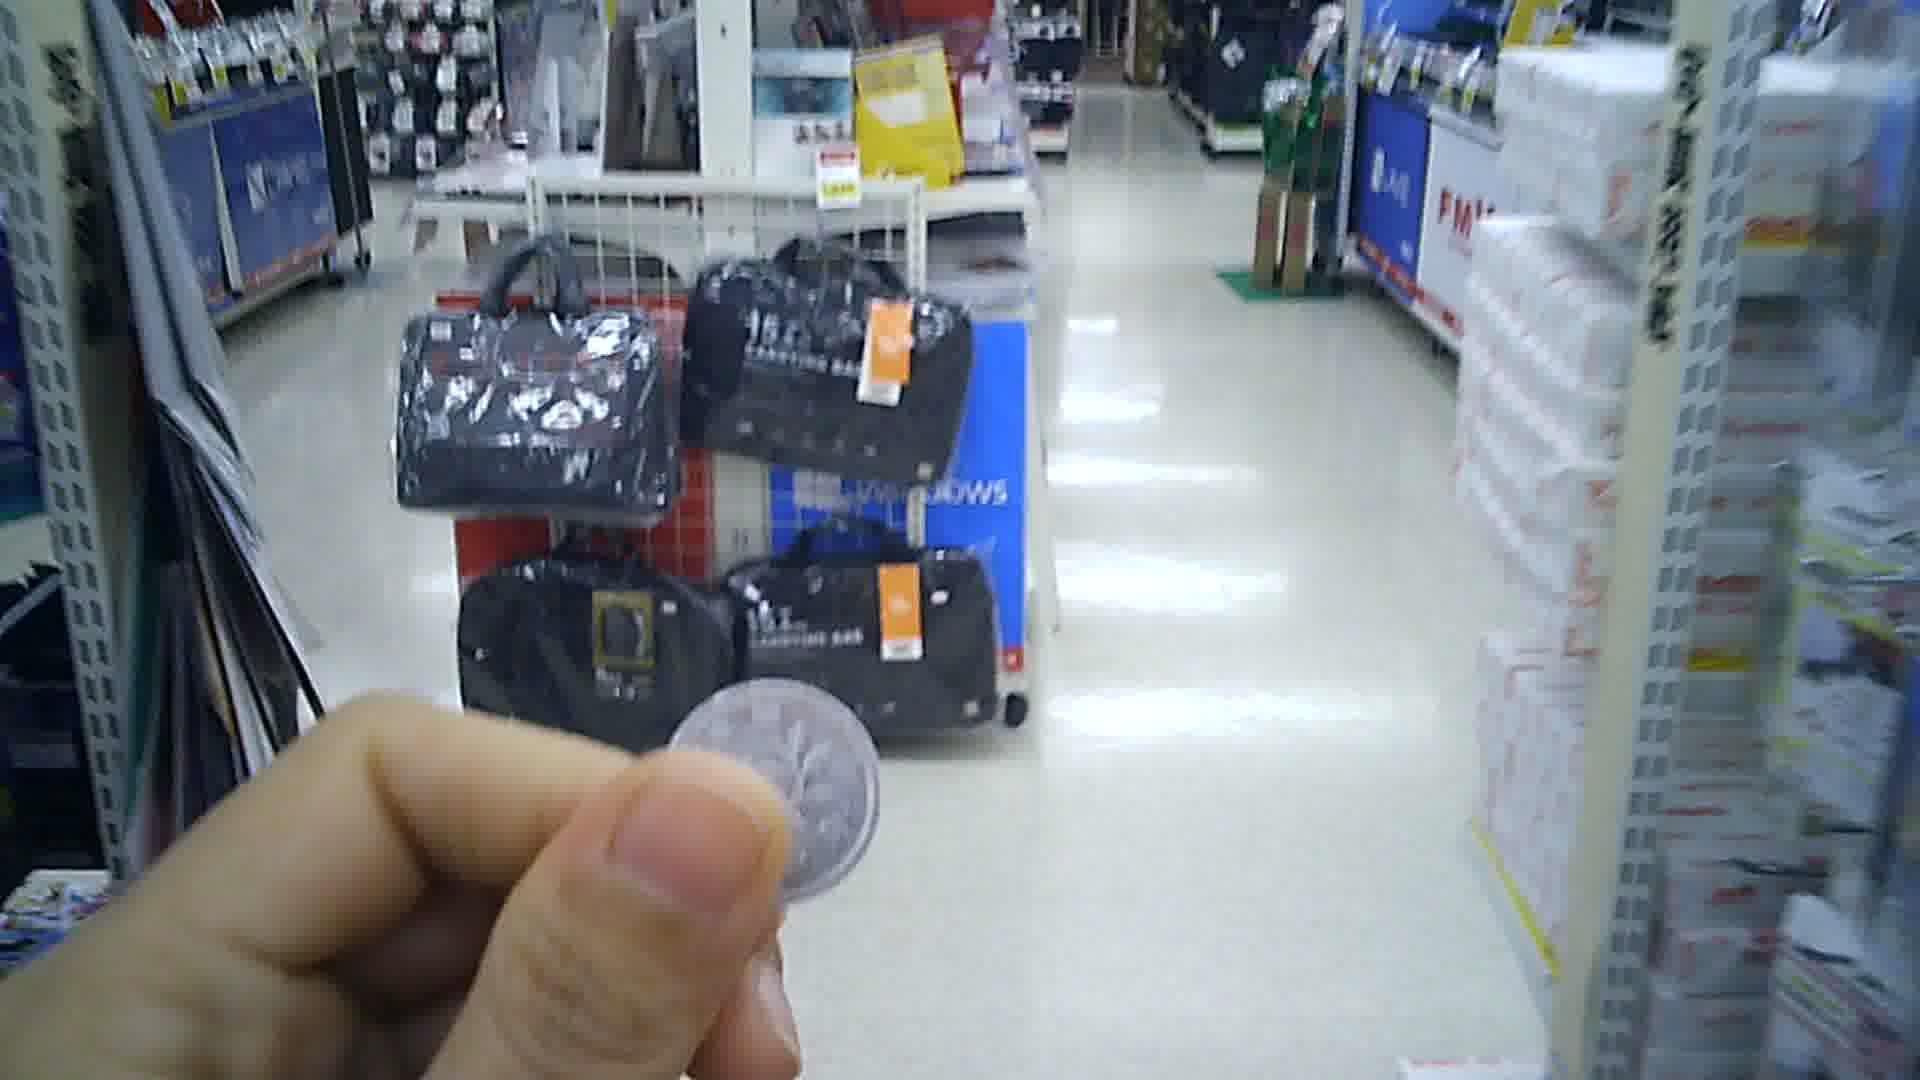1 Yen: (655, 676, 885, 905)
